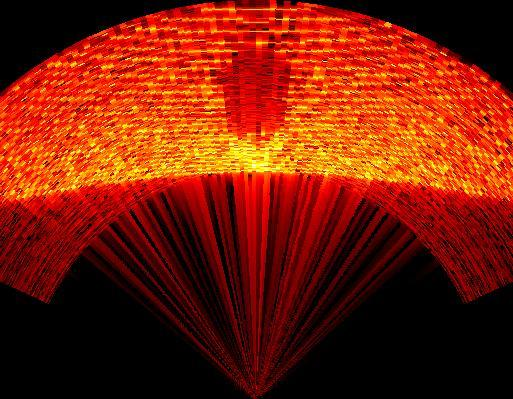box_crate: (218, 32, 294, 155)
